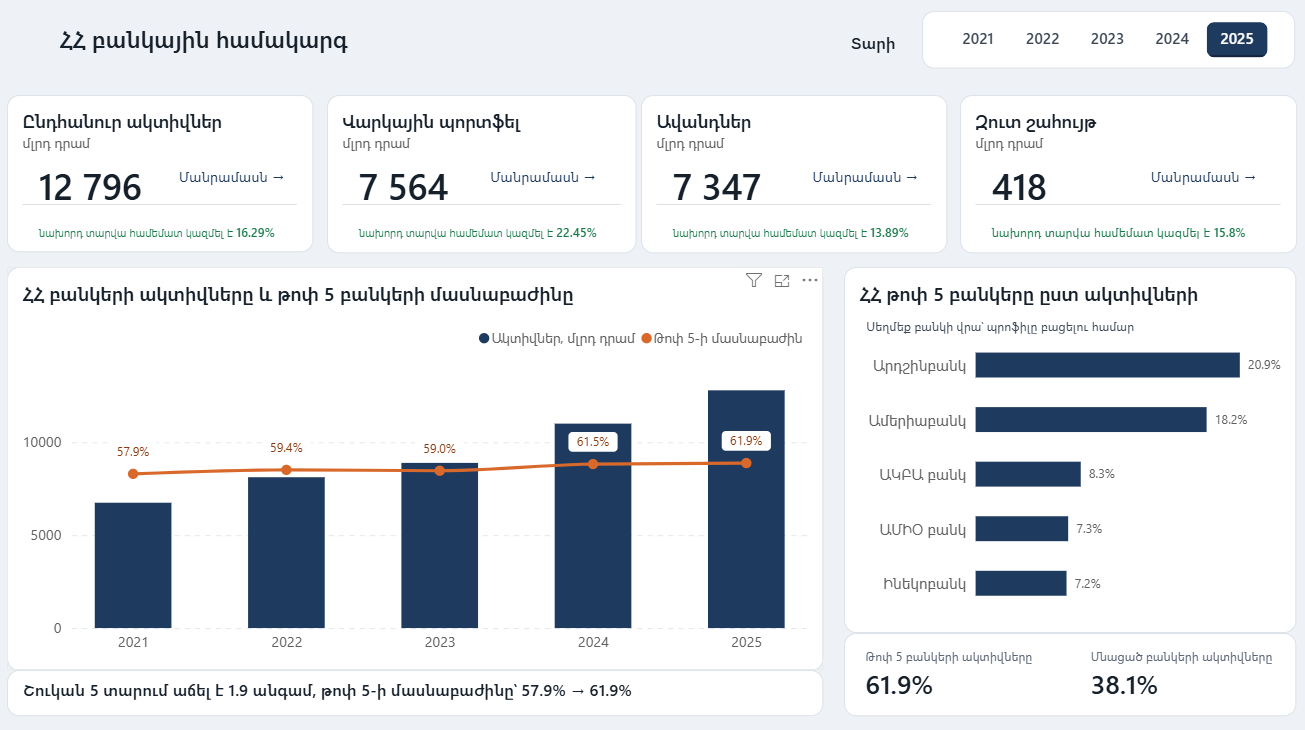

The page's visual inventory and layout, read from the dashboard file:
{"tool":"powerbi","page":{"name":"Գլխավոր","canvas":[1280,720],"ordinal":0},"visuals":[{"type":"cardVisual","title":"Վարկային պորտֆել","fields":{"Data":["_Measures.KPI_Loans"]},"box":[321.2,95,301.2,153.8],"z":0},{"type":"cardVisual","title":"Ավանդներ","fields":{"Data":["_Measures.KPI_Deposits"]},"box":[626.2,95,297.5,153.8],"z":1000},{"type":"cardVisual","title":"Զուտ շահույթ","fields":{"Data":["_Measures.KPI_NetProfit"]},"box":[936.2,95,327.5,153.8],"z":2000},{"type":"cardVisual","fields":{"Data":["_Measures.Assets_YoY_Label"]},"box":[1348.1,16,408.5,182.4],"z":3000},{"type":"lineClusteredColumnComboChart","title":"ՀՀ բանկերի ակտիվները և թոփ 5 բանկերի մասնաբաժինը","fields":{"Category":["Dim_Year.ReportDate.Variation.Date Hierarchy.Year"],"Y":["_Measures.Total_Assets"],"Y2":["_Measures.Top5_Share %"]},"box":[10,262.5,793.8,392.5],"z":4000},{"type":"barChart","fields":{"Category":["Dim_Bank.BankName"],"Y":["_Measures.Market_Share%"]},"box":[822.9,262.6,440,356.2],"z":5000},{"type":"actionButton","box":[622.5,95,301.2,153.8],"z":6000},{"type":"actionButton","box":[321.2,95,291.2,153.8],"z":7000},{"type":"actionButton","box":[943.8,95,311.2,153.8],"z":8000},{"type":"cardVisual","title":"Ընդհանուր ակտիվներ","fields":{"Data":["_Measures.KPI_Assets"]},"box":[10,95,300,153.8],"z":9000},{"type":"actionButton","box":[15,95,290,153.8],"z":10000},{"type":"textbox","title":"ՀՀ բանկային համակարգ","box":[46.2,13.8,600,56],"z":11000},{"type":"advancedSlicerVisual","fields":{"Values":["Dim_Year.Year"]},"box":[900,13.8,362.5,56.2],"z":12000},{"type":"textbox","title":"Տարի","box":[813.8,21.2,76.2,41.2],"z":13000},{"type":"shape","title":"Շուկան 5 տարում աճել է 1.9 անգամ, թոփ 5-ի մասնաբաժինը՝ 57.9% → 61.9%","box":[9.7,655.6,793.7,34],"z":14000},{"type":"cardVisual","fields":{"Data":["_Measures.Top5_Share%","_Measures.Others_Share%"]},"box":[824.8,618.6,439.6,71],"z":15000},{"type":"actionButton","box":[835,303.8,282.5,32.5],"z":16000}]}

Visuals, with their boxes in screenshot pixels (x1, y1, x2, y2), scaled from the page's 1280x720 canvas onto the 1305x730 screenshot:
"Վարկային պորտֆել" cardVisual: crop(327, 96, 635, 252)
"Ավանդներ" cardVisual: crop(638, 96, 942, 252)
"Զուտ շահույթ" cardVisual: crop(954, 96, 1288, 252)
"ՀՀ բանկերի ակտիվները և թոփ 5 բանկերի մասնաբաժինը" lineClusteredColumnComboChart: crop(10, 266, 819, 664)
barChart - Dim_Bank.BankName x _Measures.Market_Share%: crop(839, 266, 1288, 627)
actionButton: crop(635, 96, 942, 252)
actionButton: crop(327, 96, 624, 252)
actionButton: crop(962, 96, 1280, 252)
"Ընդհանուր ակտիվներ" cardVisual: crop(10, 96, 316, 252)
actionButton: crop(15, 96, 311, 252)
"ՀՀ բանկային համակարգ" textbox: crop(47, 14, 659, 71)
advancedSlicerVisual - Dim_Year.Year: crop(918, 14, 1287, 71)
"Տարի" textbox: crop(830, 21, 907, 63)
"Շուկան 5 տարում աճել է 1.9 անգամ, թոփ 5-ի մասնաբաժինը՝ 57.9% → 61.9%" shape: crop(10, 665, 819, 699)
cardVisual - _Measures.Top5_Share% x _Measures.Others_Share%: crop(841, 627, 1289, 699)
actionButton: crop(851, 308, 1139, 341)
